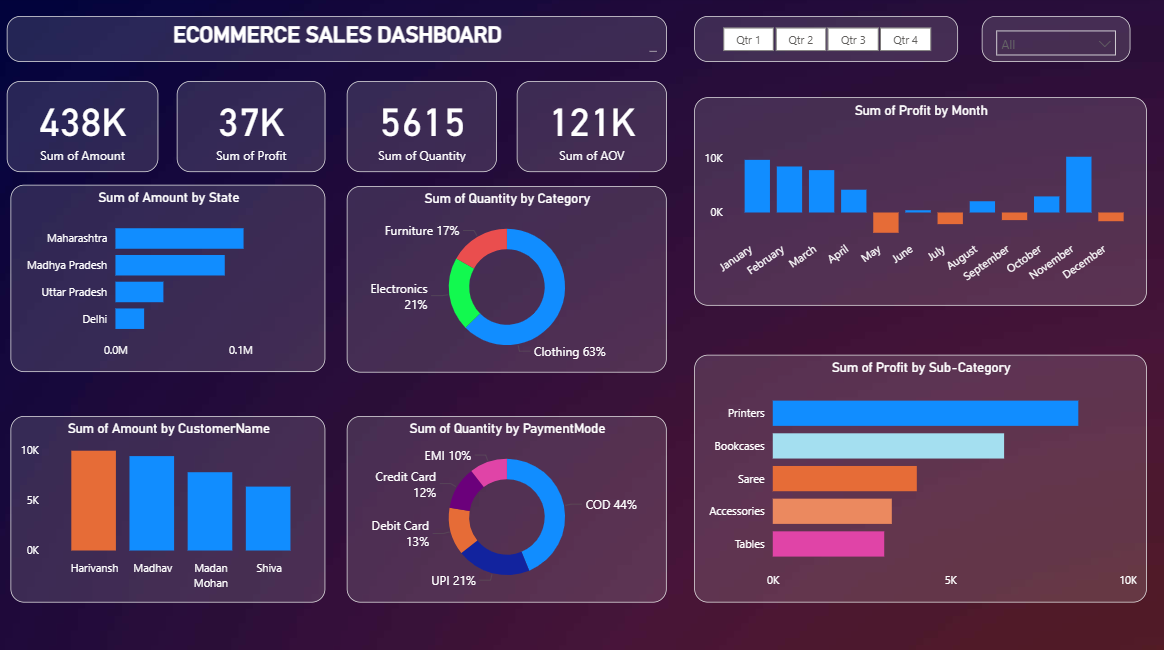

This screenshot's page, from the dashboard's own definition file:
{"tool":"powerbi","page":{"name":"Page 1","canvas":[1280,720],"ordinal":0},"visuals":[{"type":"textbox","title":"ECOMMERCE SALES DASHBOARD","box":[9.6,22,724.5,50.8],"z":0},{"type":"columnChart","fields":{"Category":["Orders.Order Date.Variation.Date Hierarchy.Month"],"Y":["Details.Profit"]},"box":[764.3,111.1,496.7,229.2],"z":1000},{"type":"barChart","fields":{"Category":["Details.Sub-Category"],"Y":["Details.Profit"]},"box":[764.3,393.8,496.7,271.7],"z":2000},{"type":"donutChart","fields":{"Category":["Details.Category"],"Y":["Details.Quantity"]},"box":[382.8,208.6,351.3,204.5],"z":3000},{"type":"card","fields":{"Values":["Details.Amount"]},"box":[9.6,93.3,166,100.2],"z":4000},{"type":"donutChart","fields":{"Category":["Details.PaymentMode"],"Y":["Details.Quantity"]},"box":[382.8,461.1,351.3,204.5],"z":5000},{"type":"card","fields":{"Values":["Details.Profit"]},"box":[196.2,93.3,163.3,100.2],"z":6000},{"type":"card","fields":{"Values":["Details.Quantity"]},"box":[382.8,93.3,164.7,100.2],"z":7000},{"type":"card","fields":{"Values":["Details.AOV"]},"box":[569.5,93.3,164.7,100.2],"z":8000},{"type":"barChart","fields":{"Y":["Details.Amount"],"Category":["Orders.State"]},"box":[13.7,207.2,345.8,205.8],"z":9000},{"type":"columnChart","fields":{"Category":["Orders.CustomerName"],"Y":["Details.Amount"]},"box":[13.7,461.1,345.8,204.5],"z":10000},{"type":"slicer","fields":{"Values":["Orders.Order Date.Variation.Date Hierarchy.Quarter"]},"box":[764.3,22,289.5,50.8],"z":11000},{"type":"slicer","fields":{"Values":["Orders.State"]},"box":[1079.9,22,163.3,50.8],"z":12000}]}

Visuals, with their boxes in screenshot pixels (x1, y1, x2, y2), scaled from the page's 1280x720 canvas onto the 1164x650 screenshot:
"ECOMMERCE SALES DASHBOARD" textbox: (x1=9, y1=20, x2=668, y2=66)
columnChart - Orders.Order Date.Variation.Date Hierarchy.Month x Details.Profit: (x1=695, y1=100, x2=1147, y2=307)
barChart - Details.Sub-Category x Details.Profit: (x1=695, y1=356, x2=1147, y2=601)
donutChart - Details.Category x Details.Quantity: (x1=348, y1=188, x2=668, y2=373)
card - Details.Amount: (x1=9, y1=84, x2=160, y2=175)
donutChart - Details.PaymentMode x Details.Quantity: (x1=348, y1=416, x2=668, y2=601)
card - Details.Profit: (x1=178, y1=84, x2=327, y2=175)
card - Details.Quantity: (x1=348, y1=84, x2=498, y2=175)
card - Details.AOV: (x1=518, y1=84, x2=668, y2=175)
barChart - Details.Amount x Orders.State: (x1=12, y1=187, x2=327, y2=373)
columnChart - Orders.CustomerName x Details.Amount: (x1=12, y1=416, x2=327, y2=601)
slicer - Orders.Order Date.Variation.Date Hierarchy.Quarter: (x1=695, y1=20, x2=958, y2=66)
slicer - Orders.State: (x1=982, y1=20, x2=1131, y2=66)
